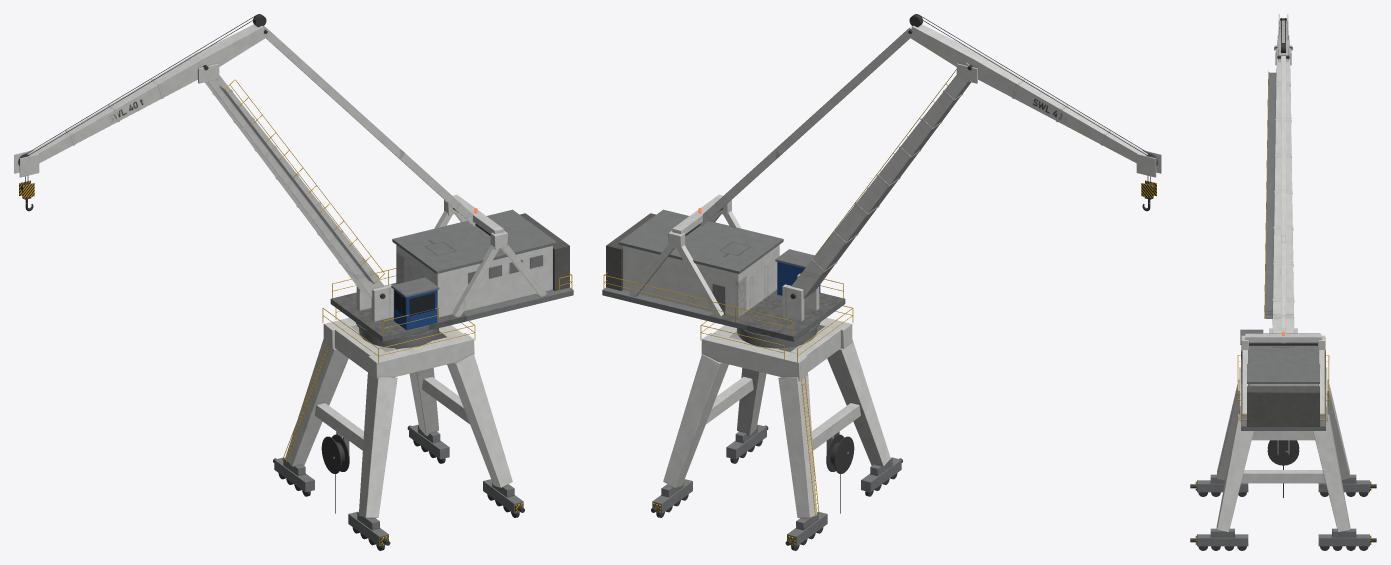
Rendered from LevelLuffingCrane.fbx.
The picture shows the model from 3 angles, left to right: view 1: azimuth 30°, elevation 25°; view 2: azimuth 150°, elevation 25°; view 3: azimuth 270°, elevation 25°; orthographic projection. The views are drawn at different scales.
Visible parts, largest first — view 1: LevelLuffingCrane_LOD0, Slew_LOD0, Boom_LOD0, Jib_LOD0, Tie_LOD0; view 2: LevelLuffingCrane_LOD0, Slew_LOD0, Jib_LOD0, Boom_LOD0, Tie_LOD0; view 3: LevelLuffingCrane_LOD0, Slew_LOD0, Boom_LOD0, Tie_LOD0, Jib_LOD0.
Boxes of the visible parts, x1=… form: LevelLuffingCrane_LOD0: x1=273, y1=308, x2=524, y2=550; Slew_LOD0: x1=330, y1=194, x2=573, y2=341; Boom_LOD0: x1=198, y1=62, x2=384, y2=298; Jib_LOD0: x1=14, y1=14, x2=267, y2=177; Tie_LOD0: x1=263, y1=26, x2=475, y2=226; LevelLuffingCrane_LOD0: x1=651, y1=305, x2=902, y2=550; Slew_LOD0: x1=602, y1=194, x2=845, y2=341; Jib_LOD0: x1=908, y1=14, x2=1161, y2=177; Boom_LOD0: x1=791, y1=62, x2=977, y2=298; Tie_LOD0: x1=700, y1=26, x2=912, y2=226; LevelLuffingCrane_LOD0: x1=1190, y1=355, x2=1376, y2=550; Slew_LOD0: x1=1240, y1=328, x2=1325, y2=430; Boom_LOD0: x1=1264, y1=45, x2=1294, y2=333; Tie_LOD0: x1=1281, y1=56, x2=1285, y2=343; Jib_LOD0: x1=1277, y1=14, x2=1289, y2=62.
Size of what is drawn, in the model's own units: 41.35 by 38.49 by 15.3.
1 material, 1 textured.
